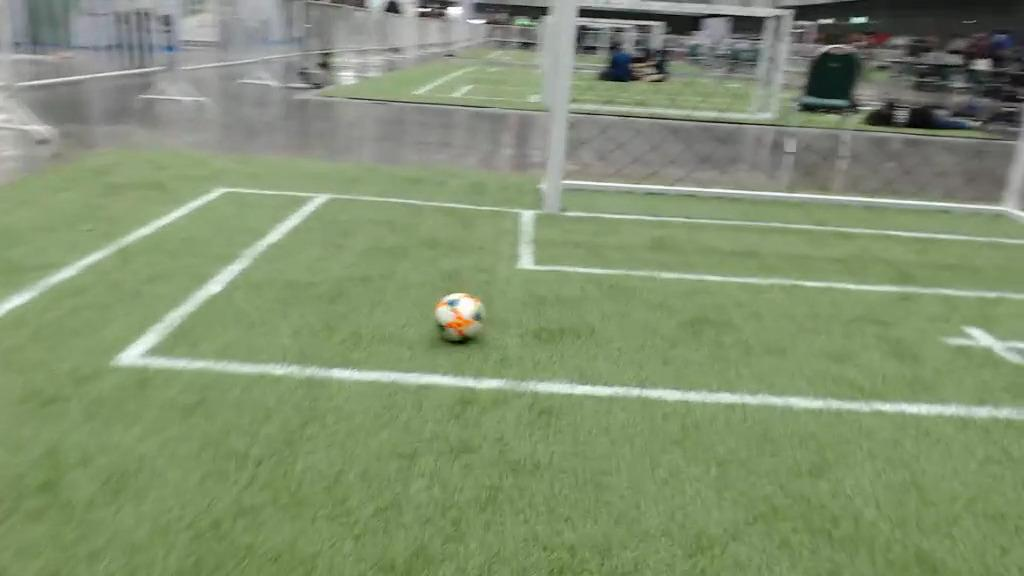ball: (434, 293, 483, 343)
